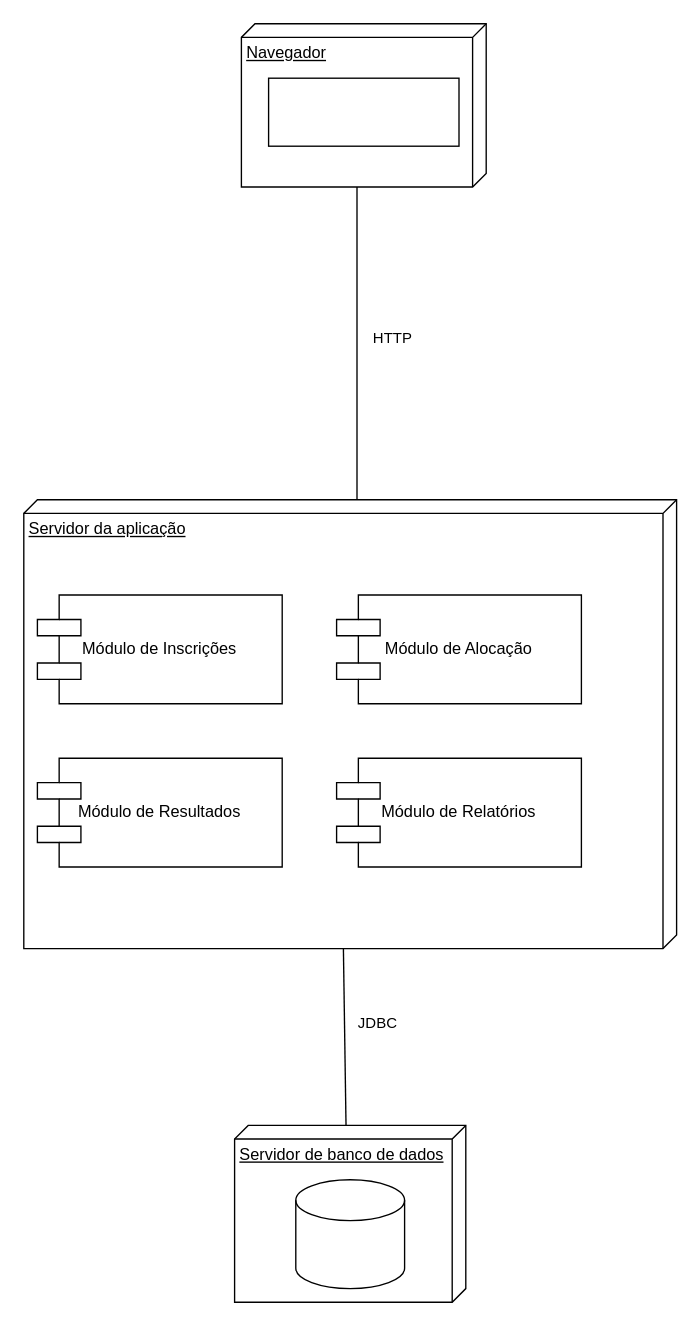
Image size: 700x1326. Some labels were removed from this diagram. Here are the shapes that lost their labels. From the top down, the centre of each, then its label:
At (363,111): "Aplicação Web".
At (349,1233): "PostgreSQL".
